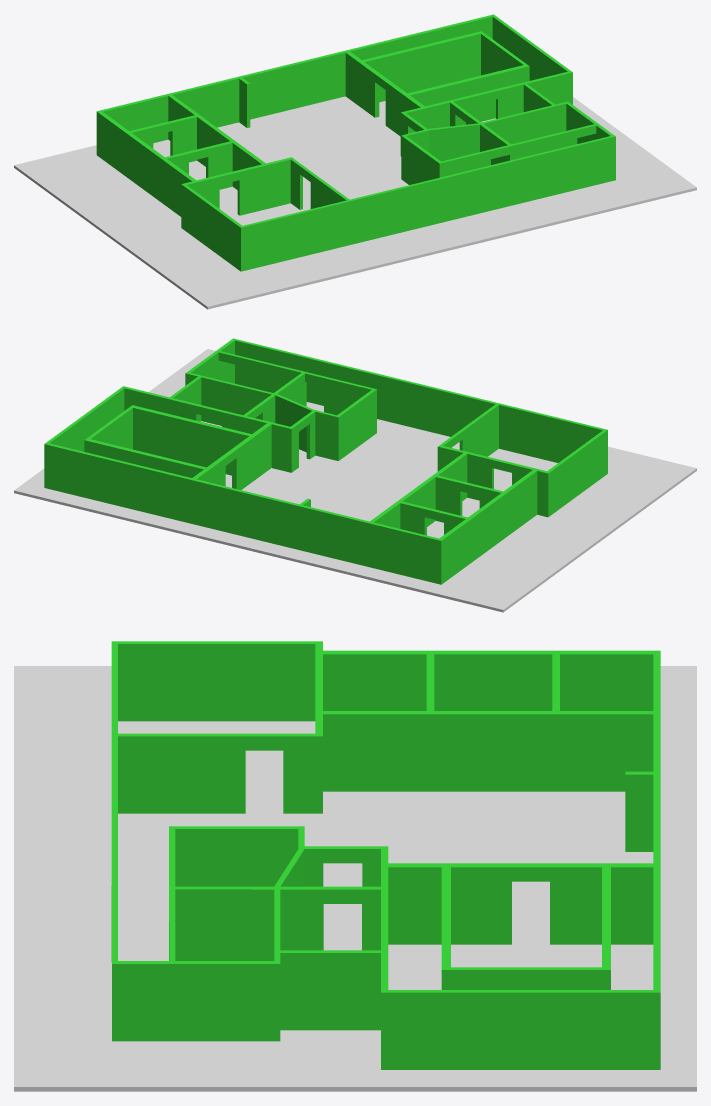
The model's file is level2pt1.fbx.
3 views of the same model, one above another, from view 1: azimuth 30°, elevation 25°; view 2: azimuth 150°, elevation 25°; view 3: azimuth 270°, elevation 25° (orthographic). The views are drawn at different scales.
Visible parts, largest first — view 1: pCube24; view 2: pCube24; view 3: pCube24.
Part boxes in pixels (x1,y1,x2,y2): pCube24: (14,14,696,309); pCube24: (14,338,696,612); pCube24: (14,641,696,1091).
Bounding box in the file's own units: 3511 × 318 × 2405.
